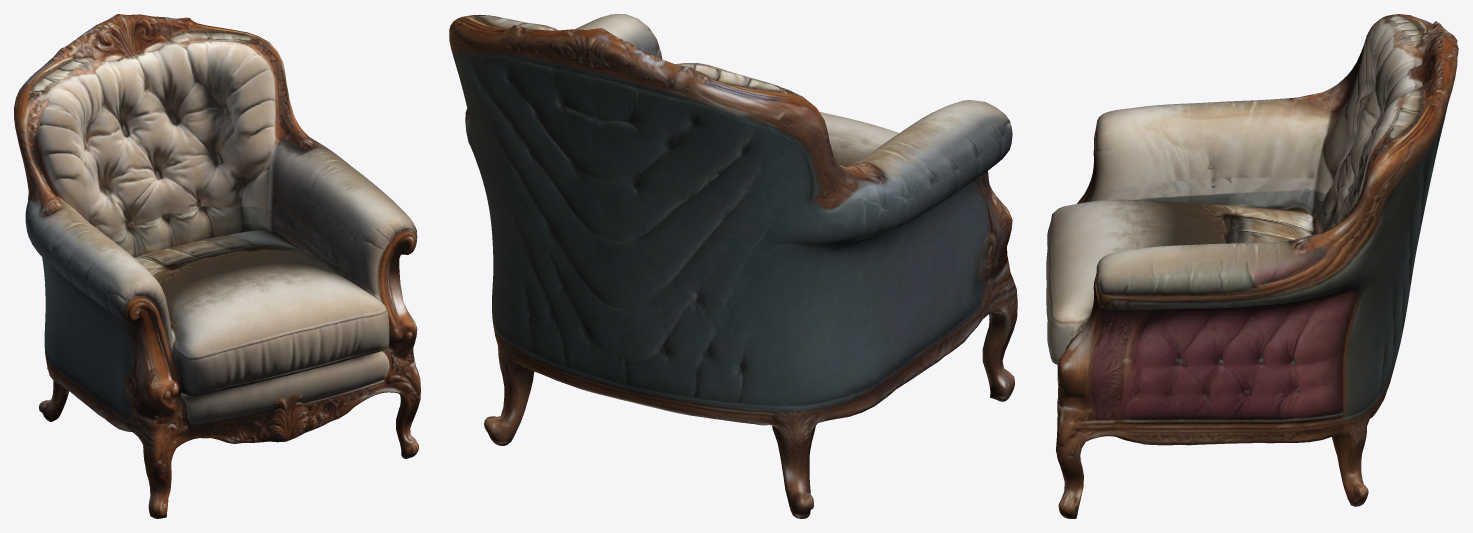
Rendered from sillon.glb.
3 views of the same model, side by side, from view 1: azimuth 30°, elevation 25°; view 2: azimuth 150°, elevation 25°; view 3: azimuth 270°, elevation 25° (orthographic). The views are drawn at different scales.
Parts seen in each view (by area): view 1: Object_4; view 2: Object_4; view 3: Object_4.
Part boxes in pixels (bbox=[...]): Object_4: bbox=[14, 14, 420, 518]; Object_4: bbox=[449, 14, 1017, 518]; Object_4: bbox=[1046, 14, 1458, 518].
Bounding box in the file's own units: 1.82 × 1.99 × 1.82.
1 material, 1 textured.
